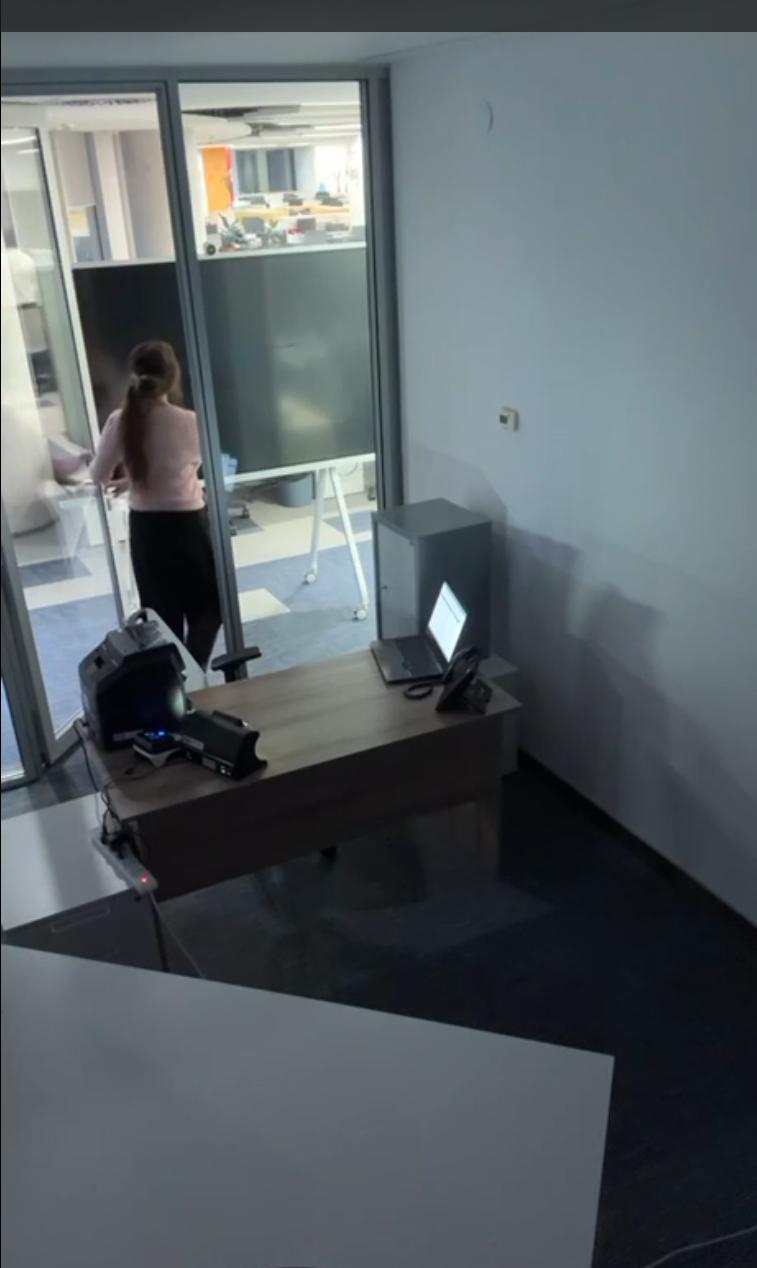counter: (76, 614, 187, 753)
door_open: (49, 92, 258, 690)
screen_on: (428, 597, 466, 652)
uv_lamp: (167, 702, 271, 784)
